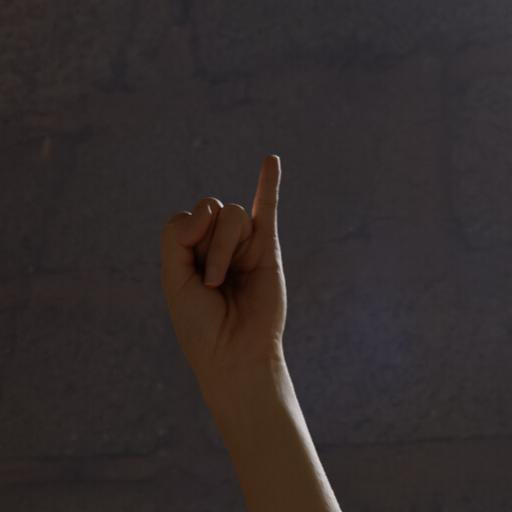I: (150, 148, 304, 350)
